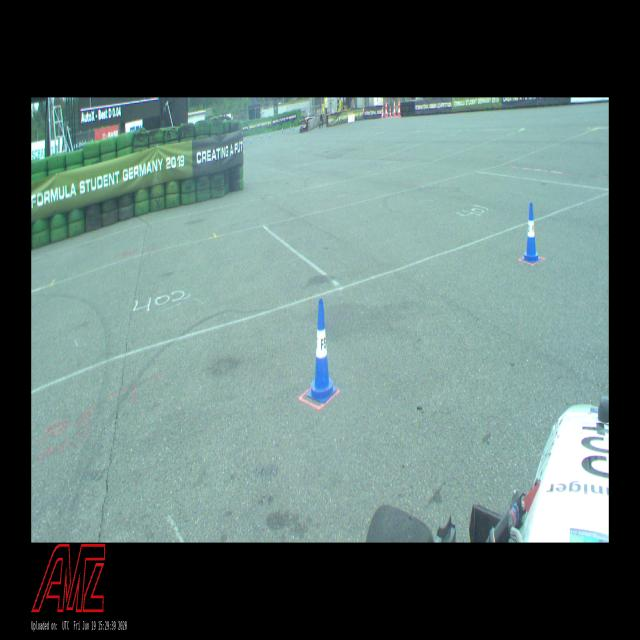blue_cone: (307, 299, 337, 402), (521, 202, 540, 262)
